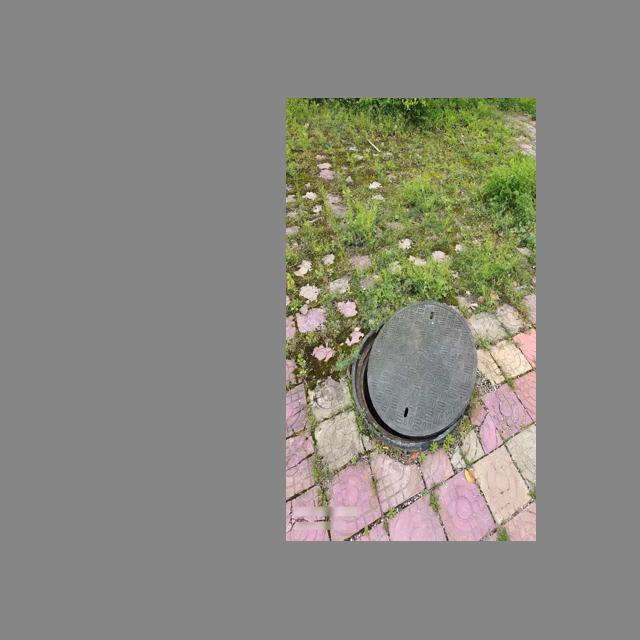uncovered: (351, 302, 477, 451)
